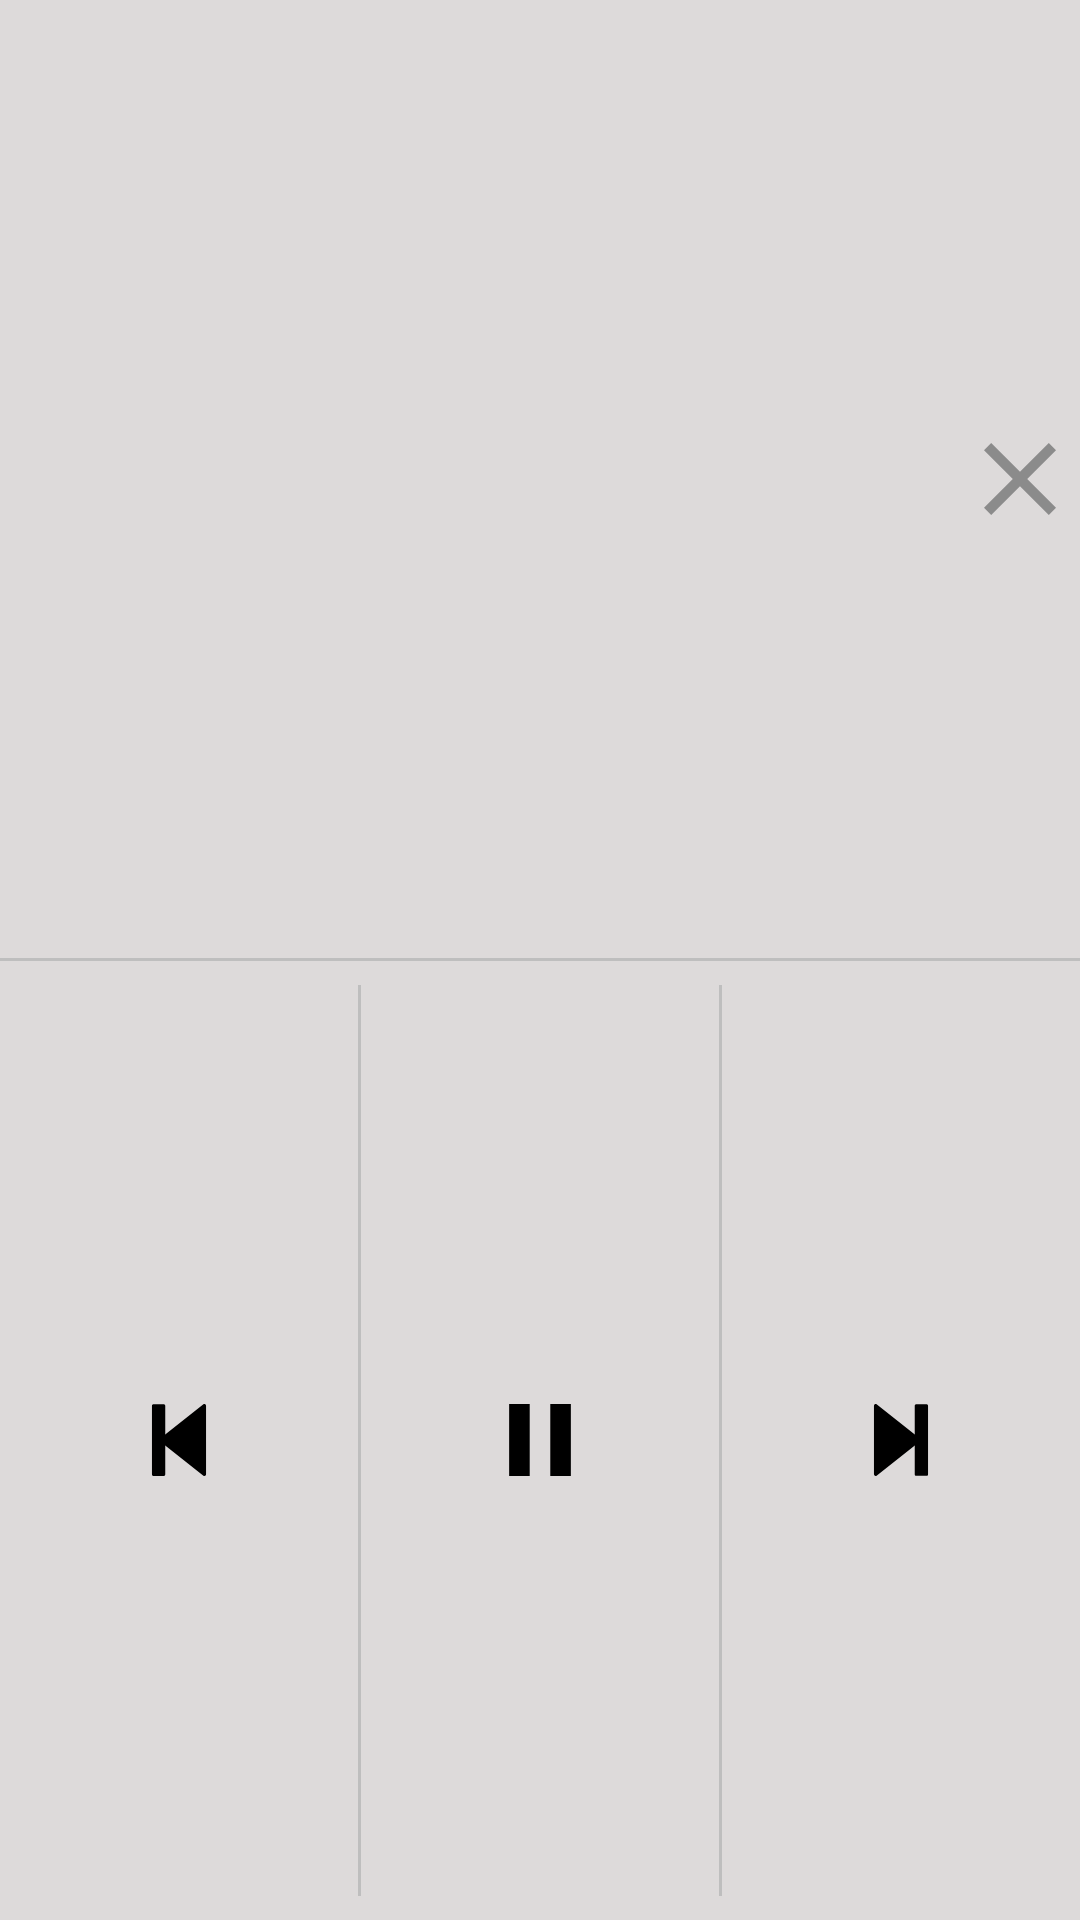

Named icons in this screenshot (1080w x 1920h) and their centers, (x=x, y=y):
back: (x=179, y=1440)
close: (x=1020, y=479)
Forward Button: (x=901, y=1440)
play Or Pause Button: (x=540, y=1440)
